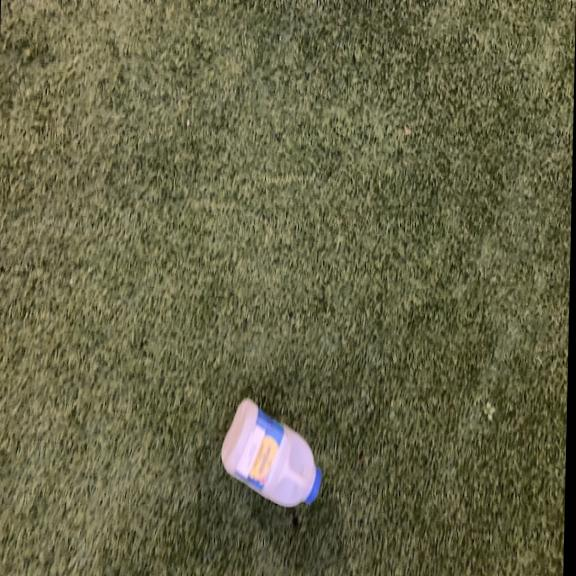Plastik: (211, 397, 324, 509)
